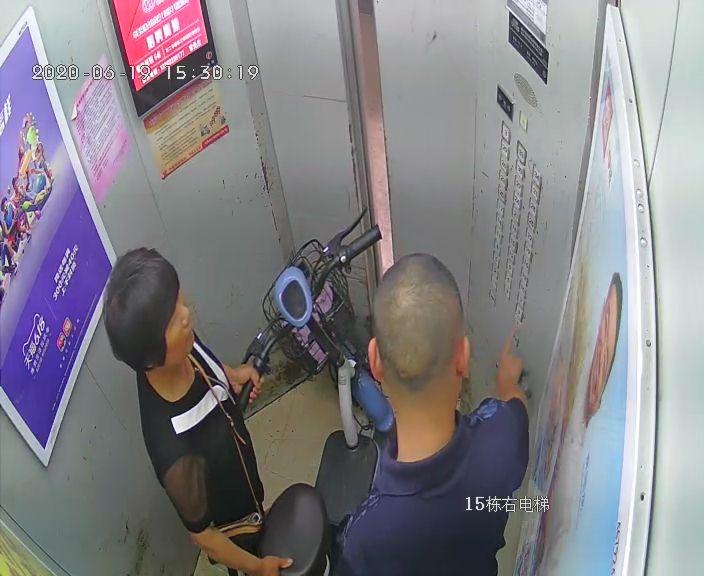Electric-bicycle: (234, 207, 389, 571)
